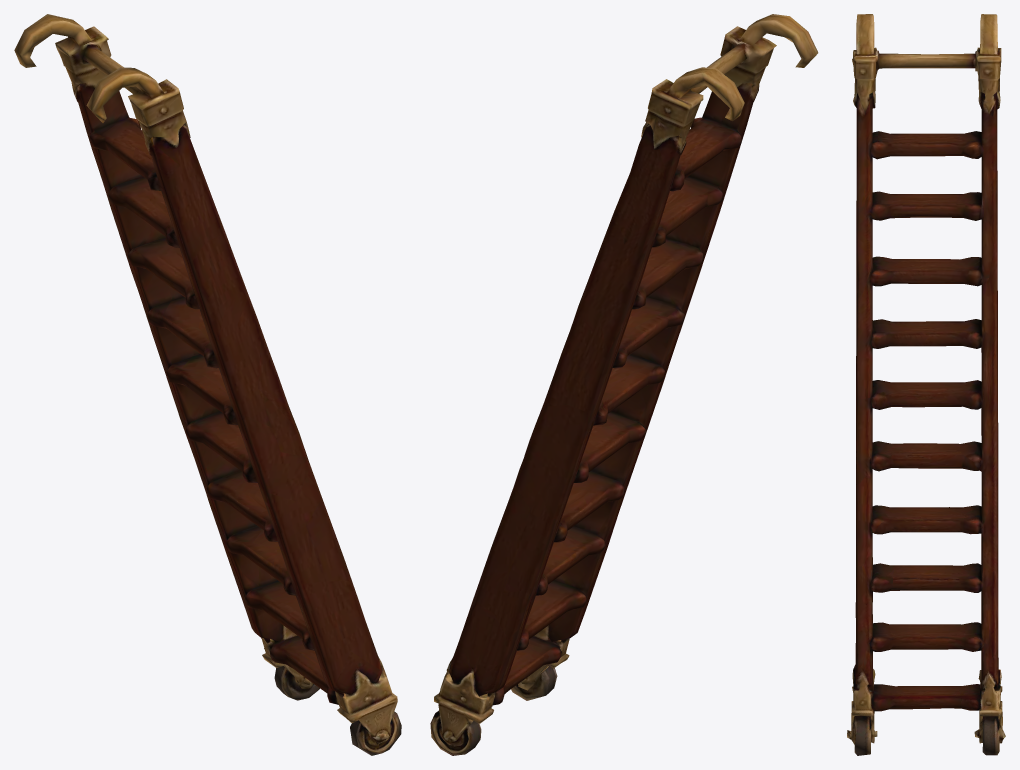
File: ladder.glb
The picture shows the model from 3 angles, left to right: view 1: azimuth 30°, elevation 25°; view 2: azimuth 150°, elevation 25°; view 3: azimuth 270°, elevation 25°; orthographic projection. The views are drawn at different scales.
Visible parts, largest first — view 1: tripo_node_53256b27-9989-4f8e-bc4d-4b849a7cde89; view 2: tripo_node_53256b27-9989-4f8e-bc4d-4b849a7cde89; view 3: tripo_node_53256b27-9989-4f8e-bc4d-4b849a7cde89.
Part boxes in pixels (x1,y1,x2,y2): tripo_node_53256b27-9989-4f8e-bc4d-4b849a7cde89: [14, 14, 401, 755]; tripo_node_53256b27-9989-4f8e-bc4d-4b849a7cde89: [430, 14, 818, 755]; tripo_node_53256b27-9989-4f8e-bc4d-4b849a7cde89: [847, 14, 1005, 755].
Size of the model in its own units: 0.4247 by 0.9813 by 0.2228.
1 material, 1 textured.
